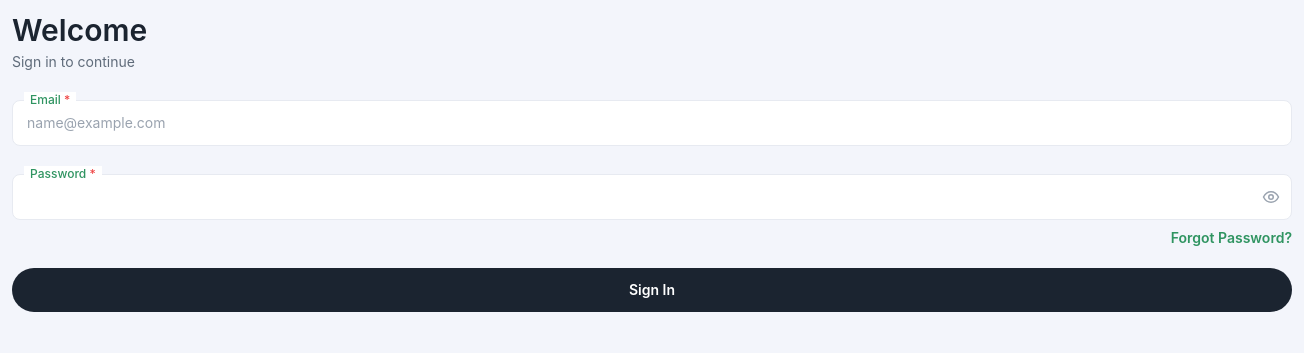
Scenario: LoginForm (spec 2.1.1) › rejects a malformed email such as john@ (spec 2.1.1.4)
Step 1. Type "john@" into the field labelled "Email *" → (652, 123), box [12,100,1292,146]
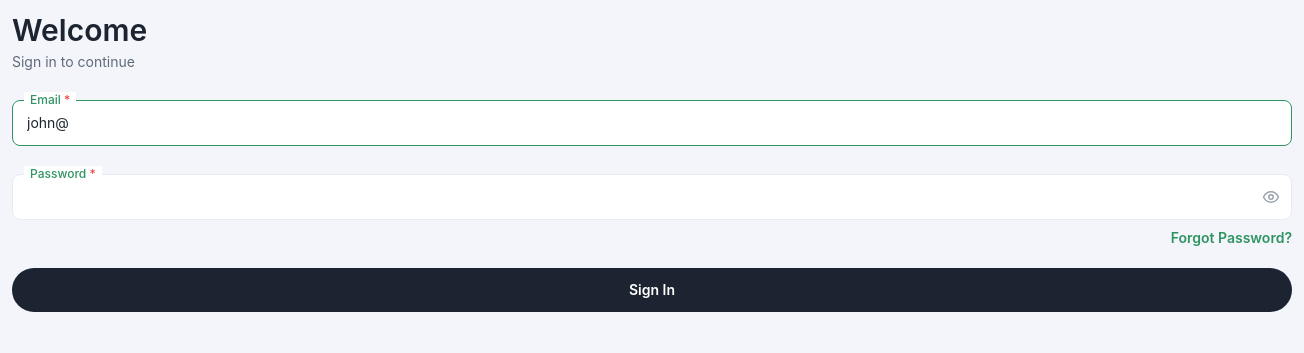
Step 2. Type "Sup3rSecret!" into the password field labelled "Password *" → (652, 197), box [12,174,1292,220]
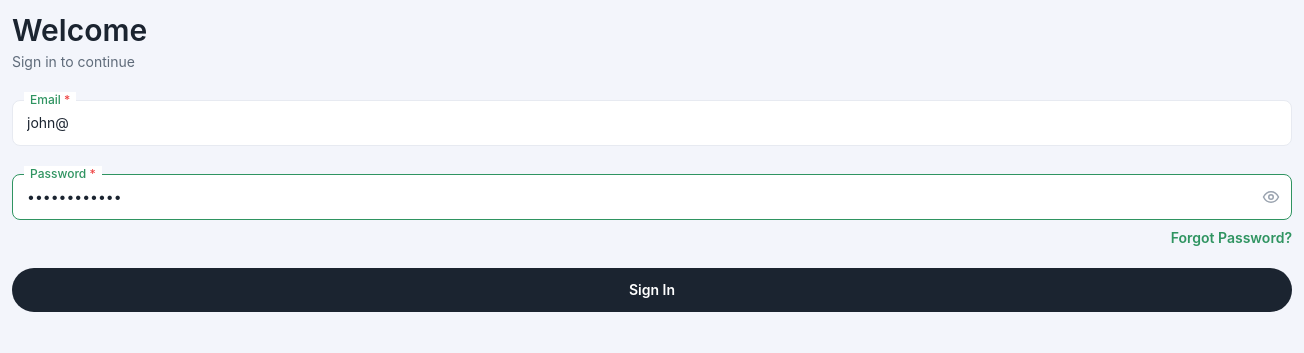
Step 3. Click the button "Sign In" → (652, 290), box [12,268,1292,312]
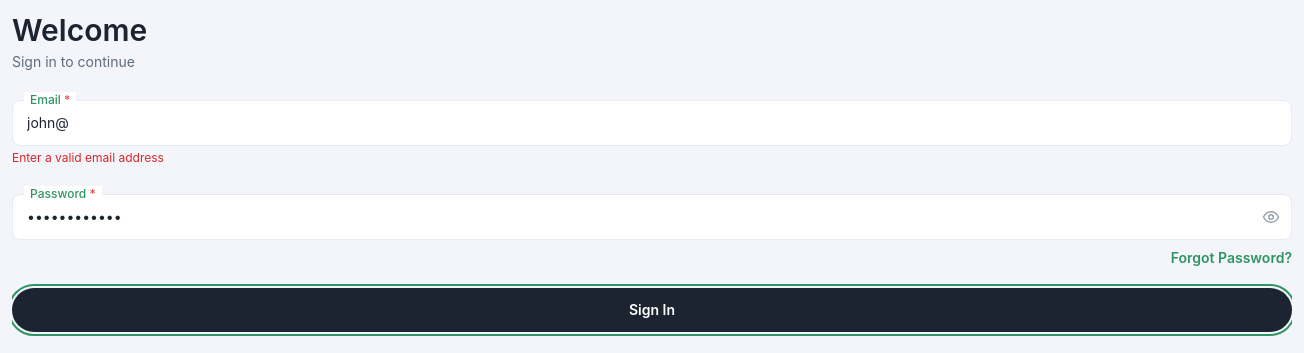
Result: the text "Enter a valid email address" is shown at [12,150,164,165]
